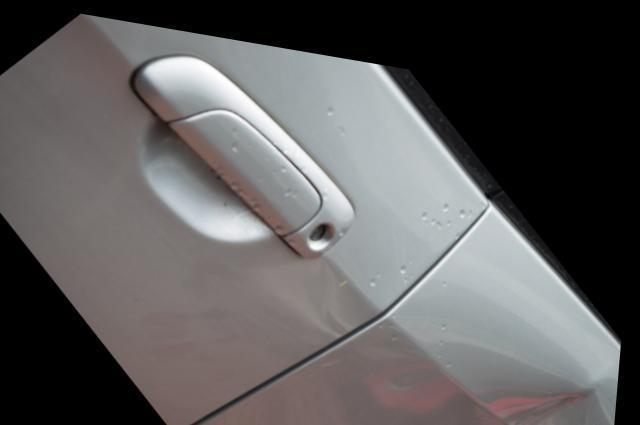dent: (341, 318, 619, 425)
